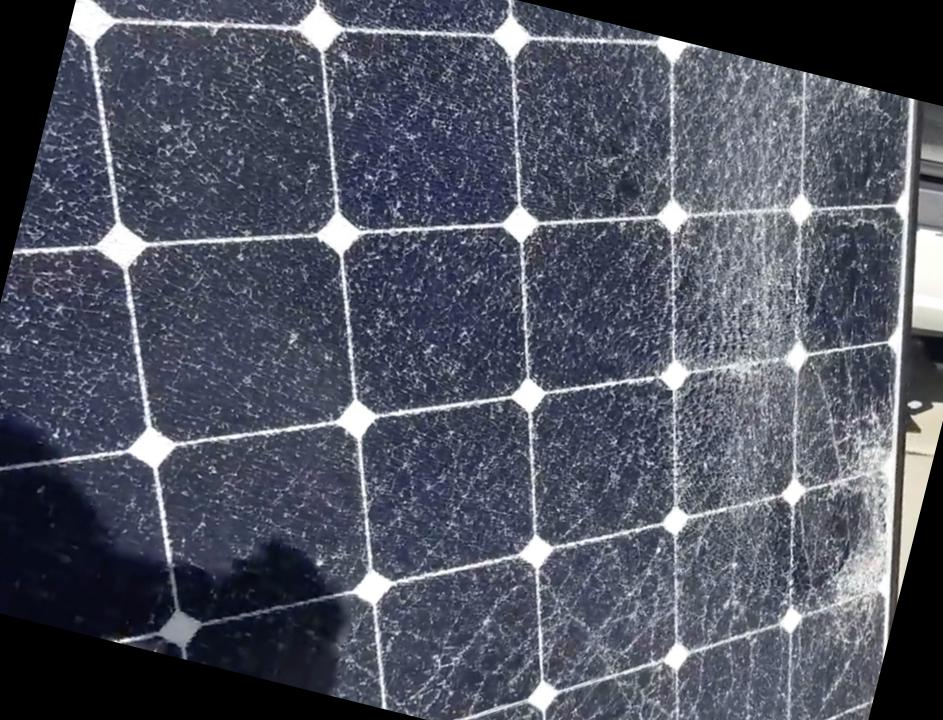Crack: (628, 51, 848, 409), (784, 501, 904, 652), (814, 400, 904, 504)
